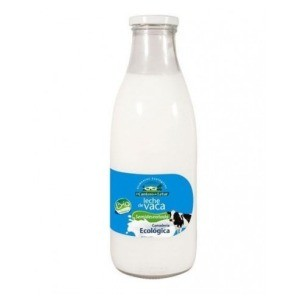milk_brain food: (103, 67, 198, 281)
